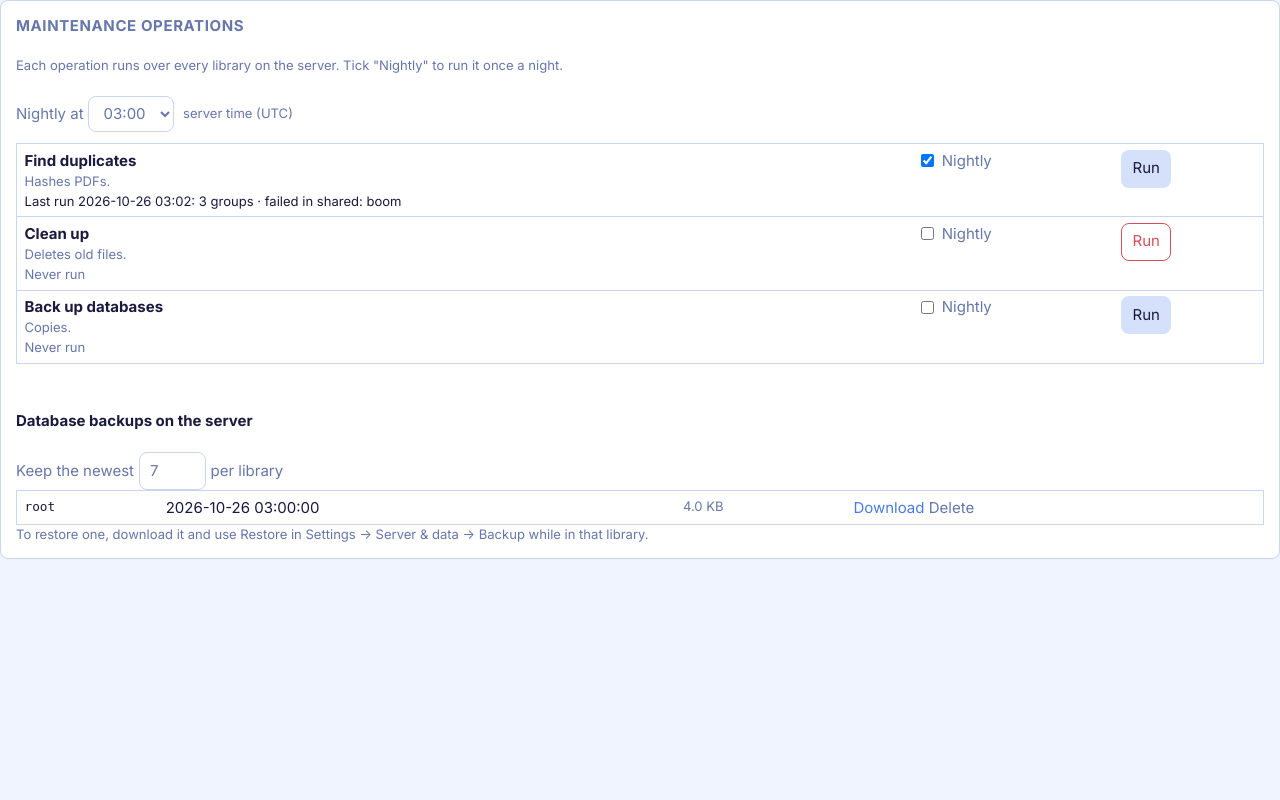
Scenario: MaintenanceSettings › lists server backups, keeps a count and deletes one
The image size is (1280, 800).
Expected: the text "2026-10-26 03:00:00" is shown, [158,491,675,525]
Step 1. Replace the text in the number field named "Backups to keep" with "3" → coordinates (172, 471), box [138,452,206,490]
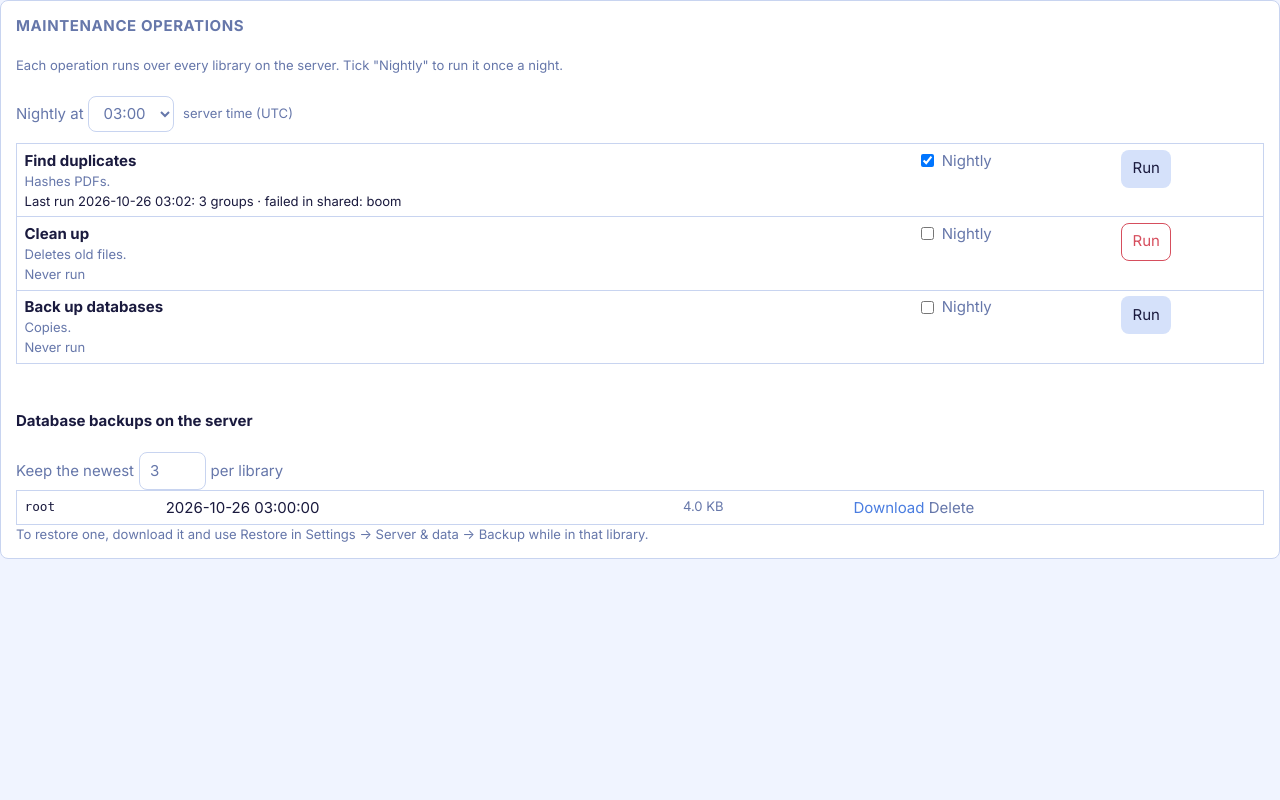
Step 2. Click the button "Delete" → coordinates (951, 508), box [929,497,974,519]
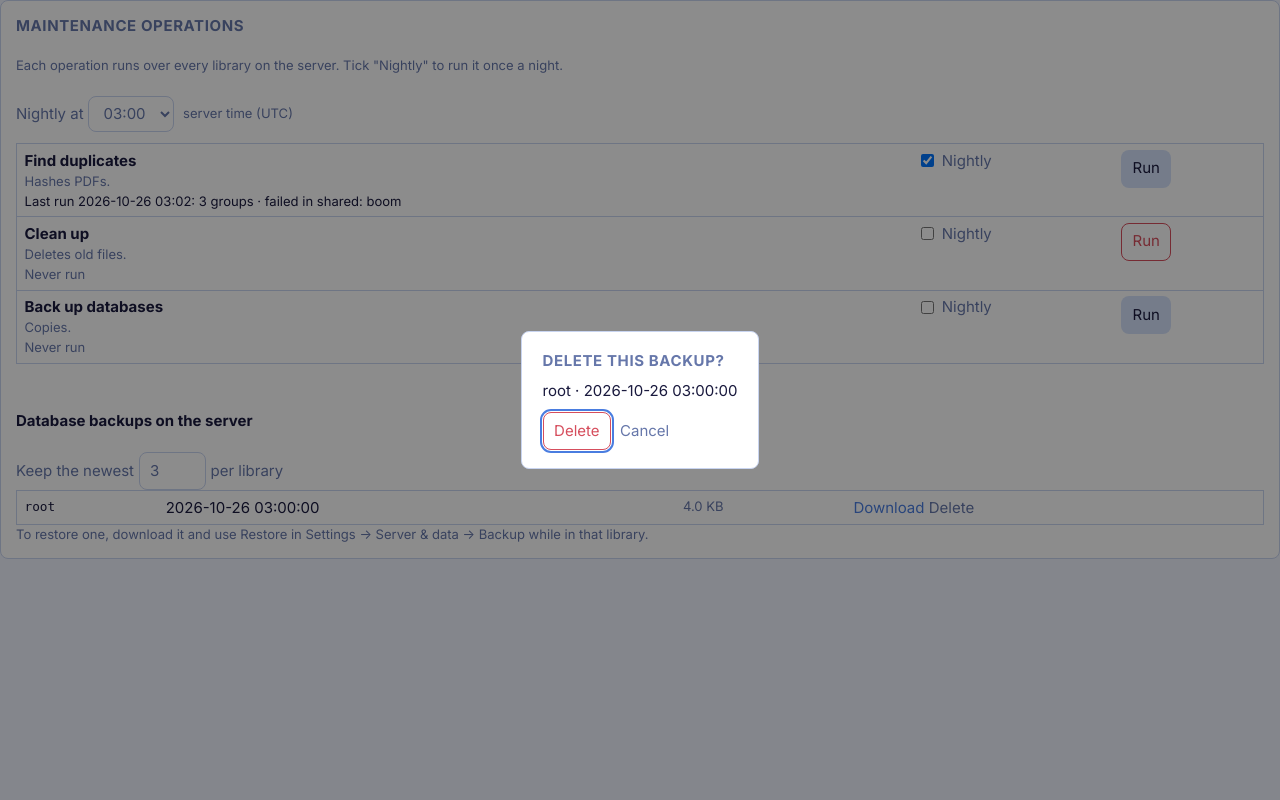
Step 3. Click the button "Delete" → coordinates (577, 431), box [543,412,611,450]
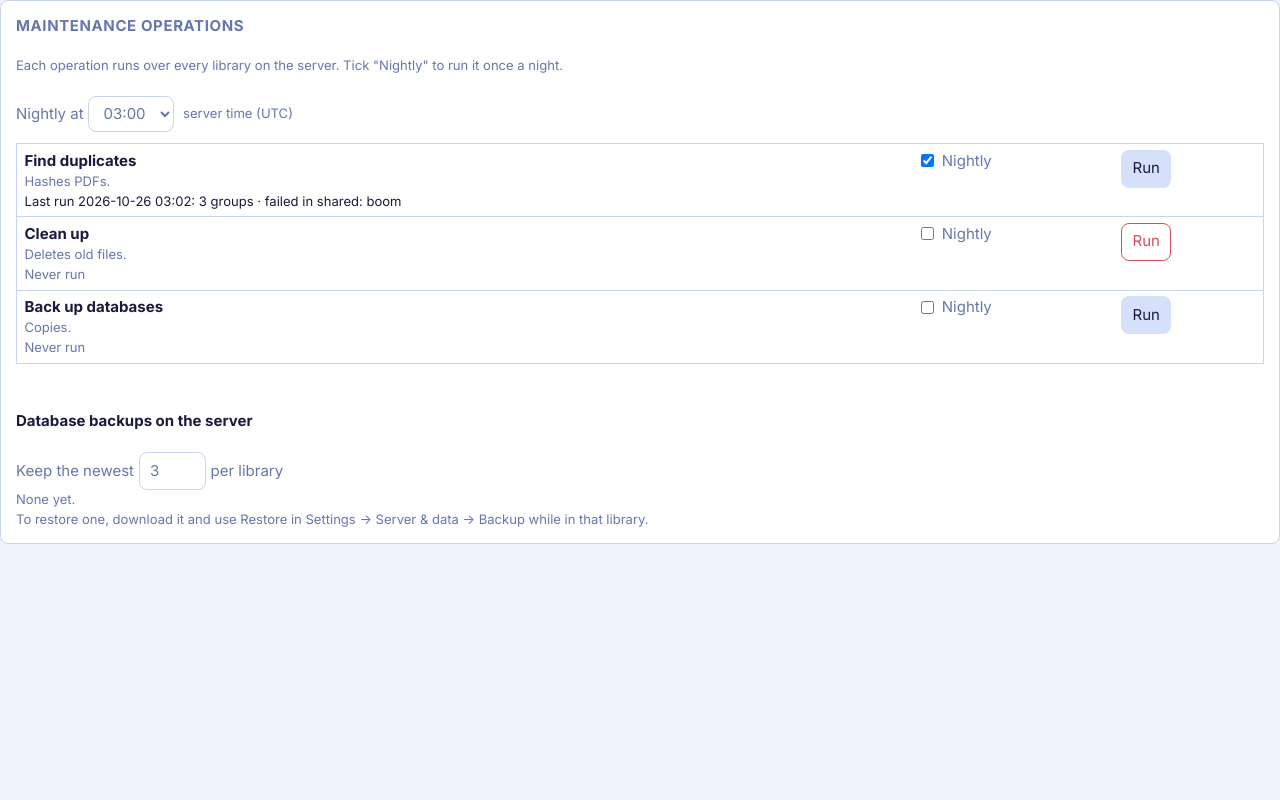
Result: the text "None yet." is shown at [16,491,75,507]
